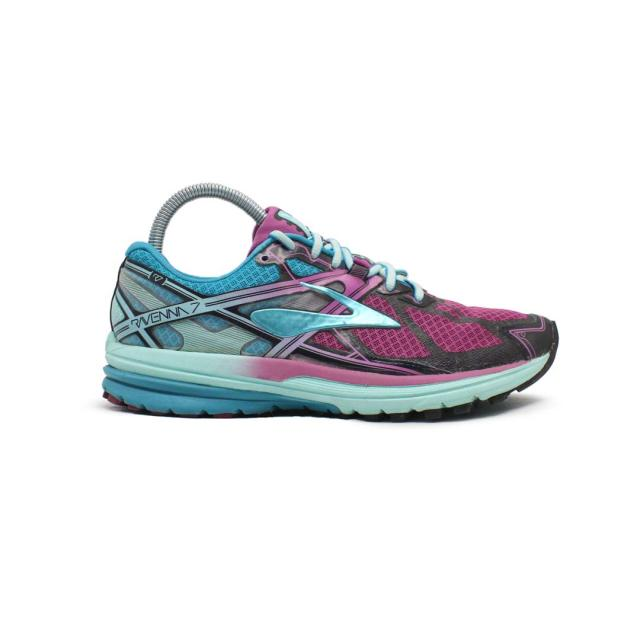heel: (110, 243, 172, 349)
midsole: (104, 319, 558, 421)
uppersole: (174, 204, 552, 375)
